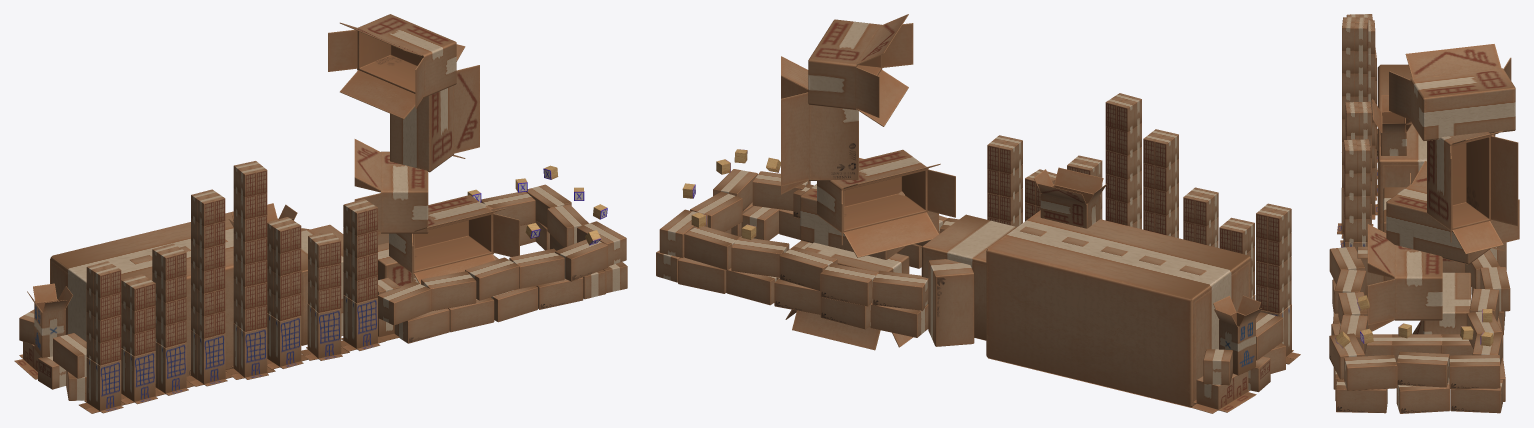
The model's file is S2-Fixed.fbx.
The picture shows the model from 3 angles, left to right: view 1: azimuth 30°, elevation 25°; view 2: azimuth 150°, elevation 25°; view 3: azimuth 270°, elevation 25°; orthographic projection. The views are drawn at different scales.
Parts seen in each view (by area): view 1: S2_refined; view 2: S2_refined; view 3: S2_refined.
Part boxes in pixels (x1,y1,x2,y2): S2_refined: [14, 14, 627, 413]; S2_refined: [656, 14, 1300, 413]; S2_refined: [1329, 14, 1519, 413].
Bounding box in the file's own units: 24882 × 12482 × 7389.
